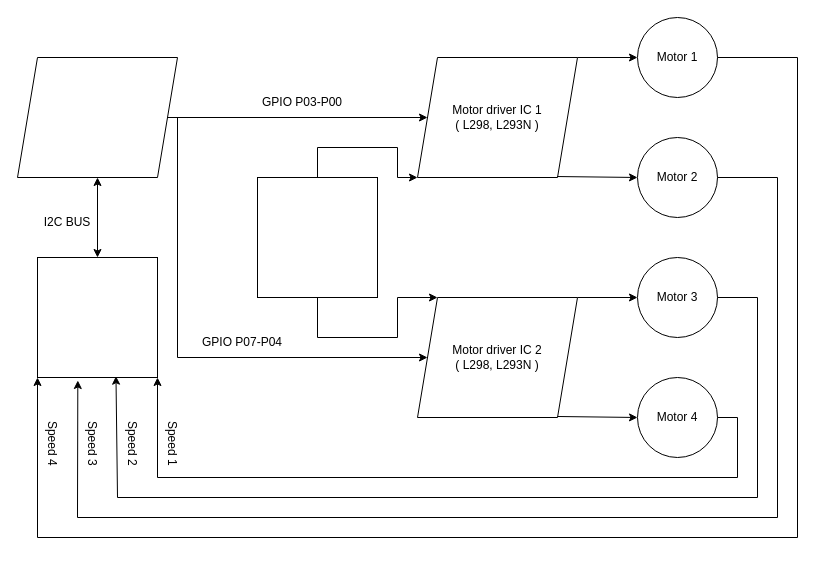
Some shapes in this 823 by 563 pixel diagram are drawn without their labels. Here are the shapes that lost their labels. From the top down, the centre of each, then its label:
At point (97, 117): "IC I2C GPIO ( PCF8574 - PCF8575 )".
At point (317, 237): "Power supply ( 5 - 12 V )".
At point (97, 317): "Micro-controller".
